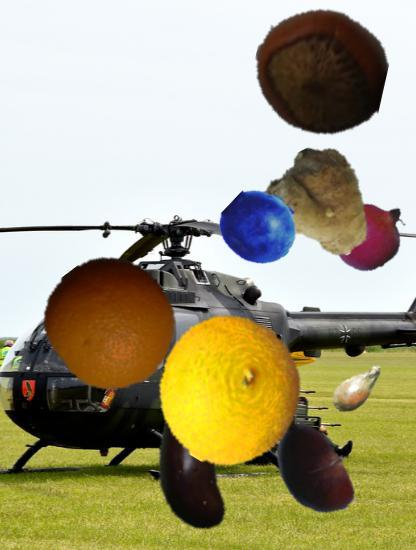Cactus: (329, 359, 390, 420)
Cantaloupe: (155, 317, 305, 467)
Chestnut: (265, 421, 364, 520)
Eggplant: (119, 390, 264, 535)
Ginger: (257, 151, 372, 266)
Huckleberry: (222, 190, 298, 266)
Nut: (254, 5, 387, 138)
Orange: (46, 256, 179, 389)
Pomegranate: (332, 196, 411, 275)
